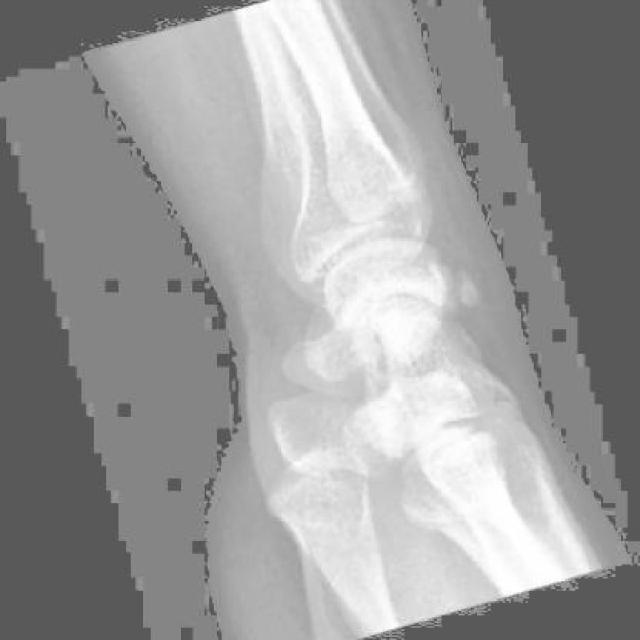Fracture: (420, 259, 494, 333)
